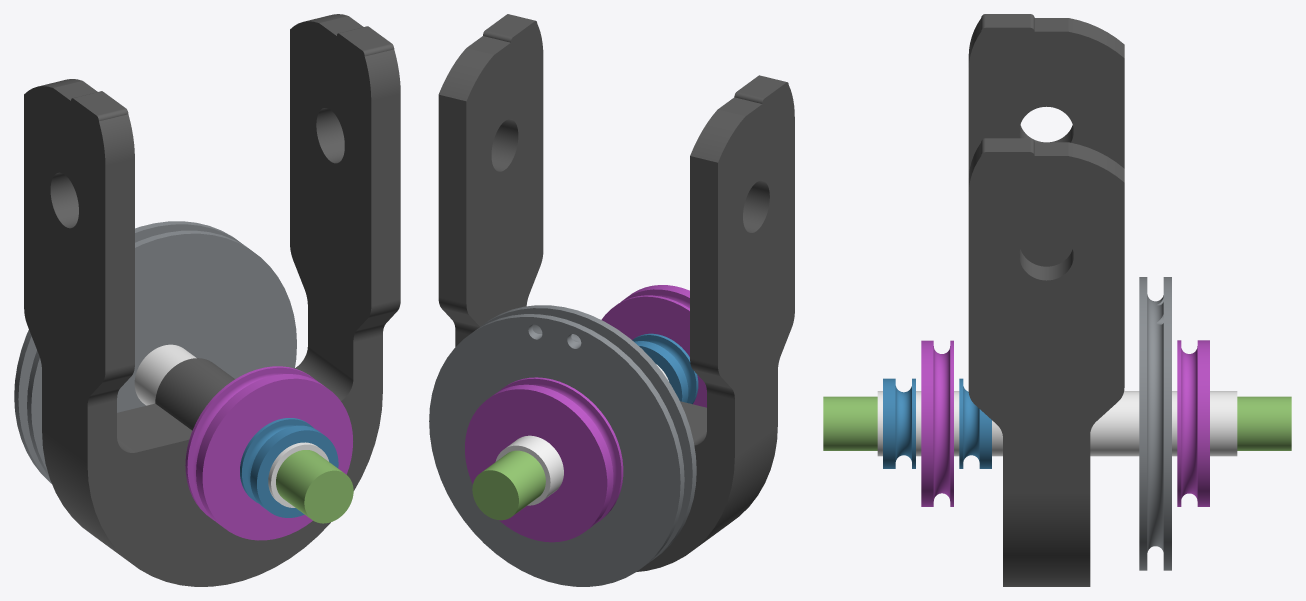
File: mcp.gltf
The picture shows the model from 3 angles, left to right: view 1: azimuth 30°, elevation 25°; view 2: azimuth 150°, elevation 25°; view 3: azimuth 270°, elevation 25°; orthographic projection. The views are drawn at different scales.
Visible parts, largest first — view 1: Part 1 (×6); view 2: Part 1 (×7); view 3: Part 1 (×7).
Part boxes in pixels (bbox=[...]): Part 1 (×6): bbox=[14, 14, 400, 586]; Part 1 (×7): bbox=[429, 14, 794, 586]; Part 1 (×7): bbox=[823, 14, 1291, 586].
Size of the model in its own units: 0.03 by 0.0495 by 0.043.
